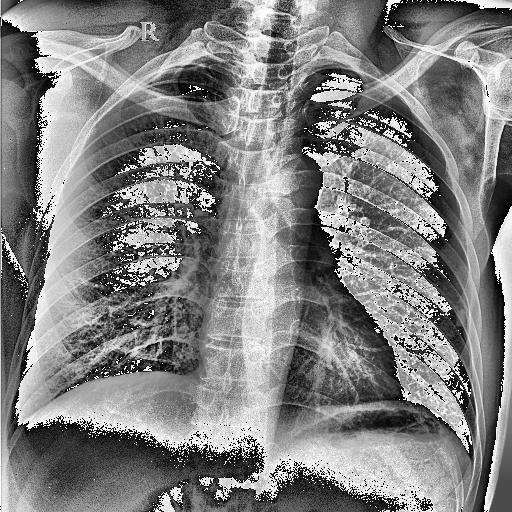2- Calcification: (416, 260, 486, 354), (440, 284, 484, 340), (438, 302, 474, 332)
5- ILD: (16, 65, 231, 413), (288, 72, 486, 435)
